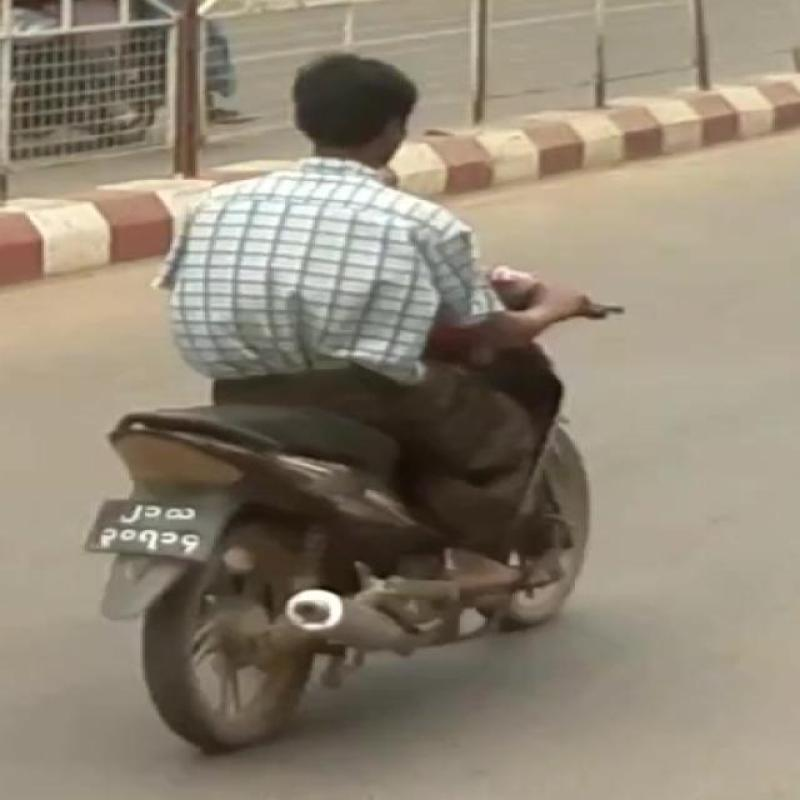nohelmet: (290, 72, 455, 188)
